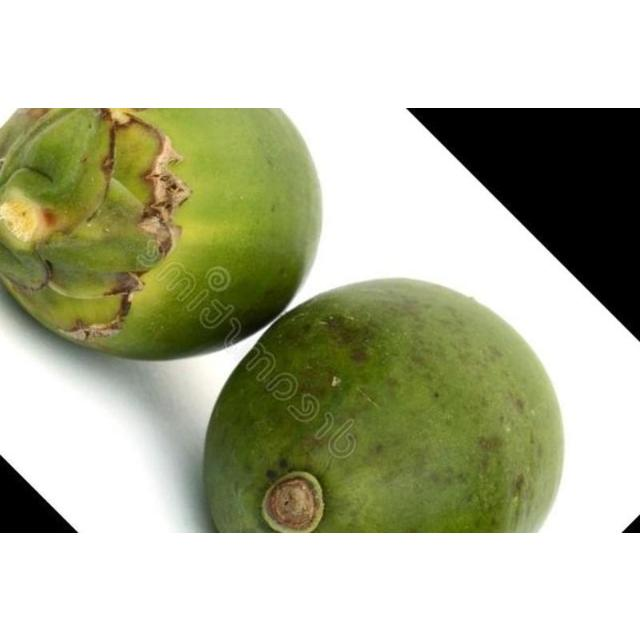good: (202, 277, 566, 532), (0, 107, 325, 362)
